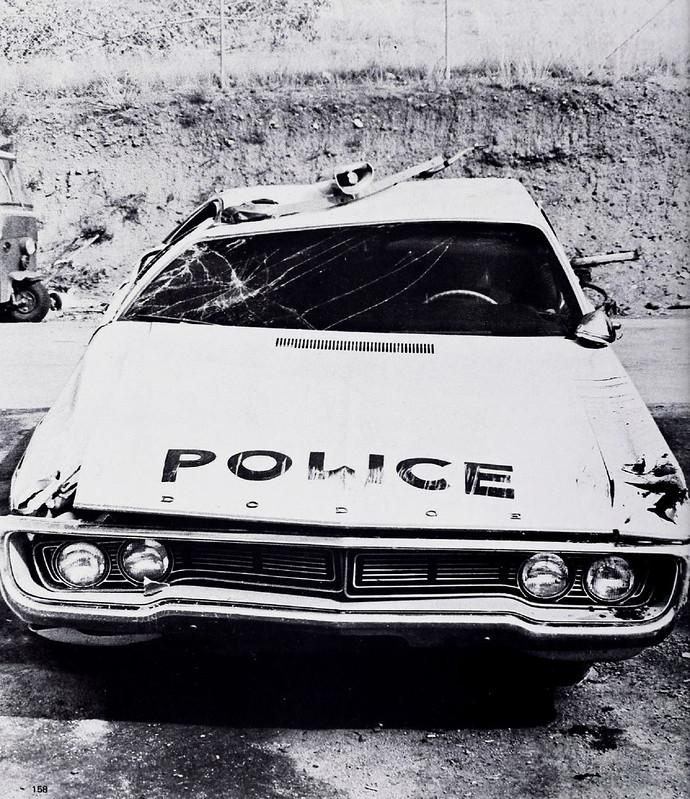Front-Windscreen-Damage: (138, 223, 587, 348)
bonnet-dent: (81, 325, 627, 544)
roof-dent: (198, 153, 554, 235)
